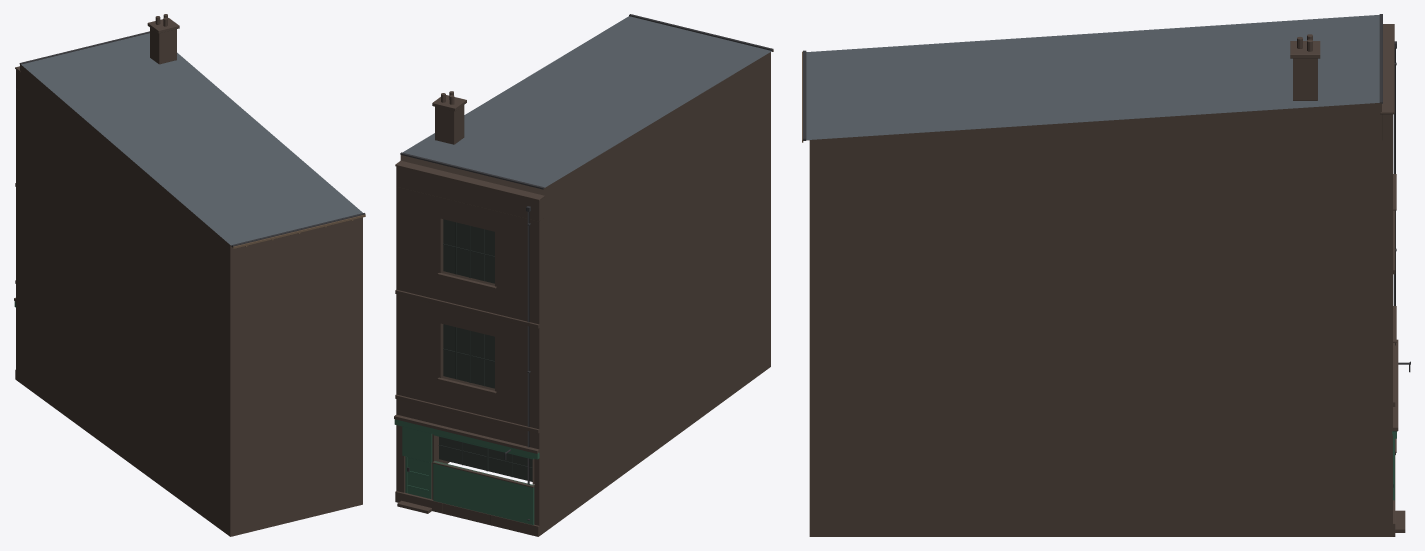
File: terrace0-3.glb
3 renders of one model, left to right at view 1: azimuth 30°, elevation 25°; view 2: azimuth 150°, elevation 25°; view 3: azimuth 270°, elevation 25°, orthographic. The views are drawn at different scales.
Visible parts, largest first — view 1: terrace0-3; view 2: terrace0-3; view 3: terrace0-3.
Boxes of the visible parts, x1,y1,x2,y2 form: terrace0-3: (14, 14, 365, 536); terrace0-3: (394, 14, 773, 536); terrace0-3: (802, 14, 1410, 536).
Bounding box in the file's own units: 5.03 × 12.91 × 14.61.
